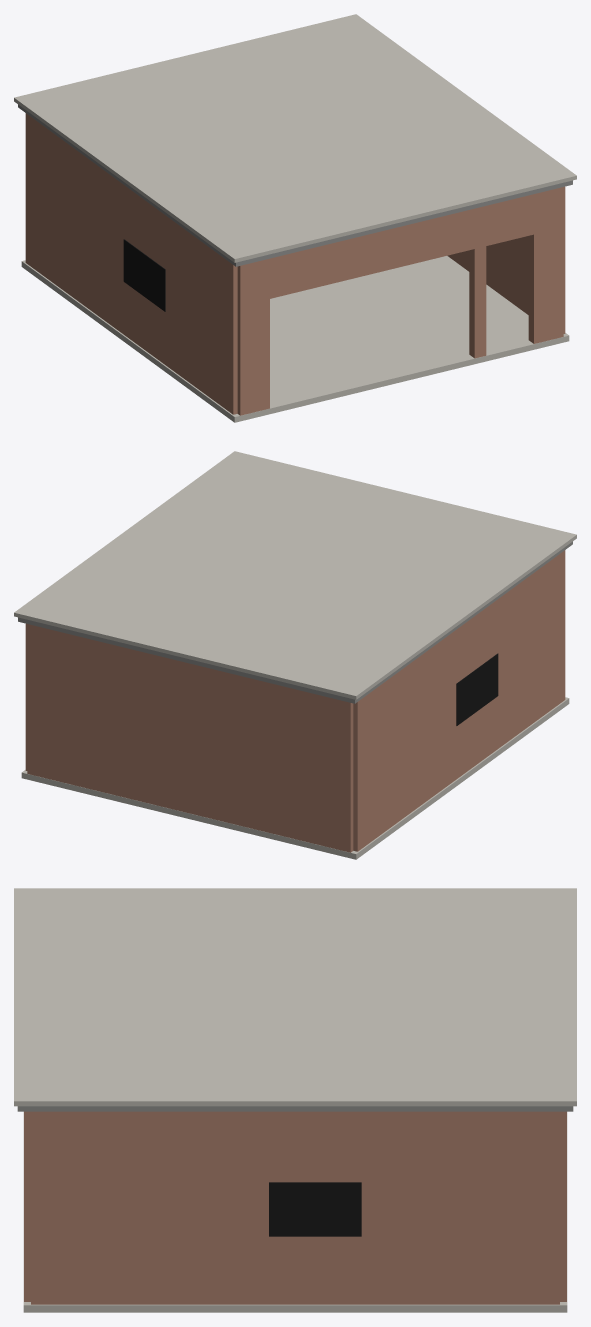
File: station_3_far.glb
The picture shows the model from 3 angles, top to bottom: view 1: azimuth 30°, elevation 25°; view 2: azimuth 150°, elevation 25°; view 3: azimuth 270°, elevation 25°; orthographic projection. The views are drawn at different scales.
Visible parts, largest first — view 1: Station; view 2: Station; view 3: Station.
Boxes of the visible parts, left/top/right/bottom form: Station: left=14, top=14, right=576, bottom=422; Station: left=14, top=451, right=576, bottom=859; Station: left=14, top=888, right=576, bottom=1312.
Bounding box in the file's own units: 7.62 × 3.56 × 8.51.
